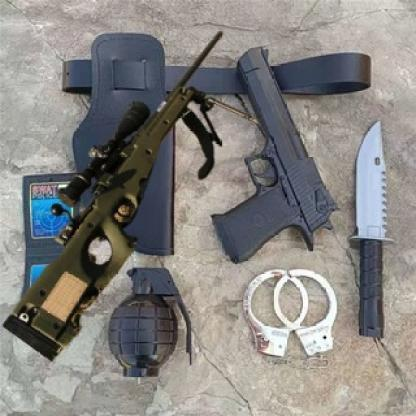Grenade: (107, 266, 193, 378)
Gun: (2, 30, 225, 361)
Knife: (348, 119, 390, 337)
Pistol: (212, 44, 343, 265)
